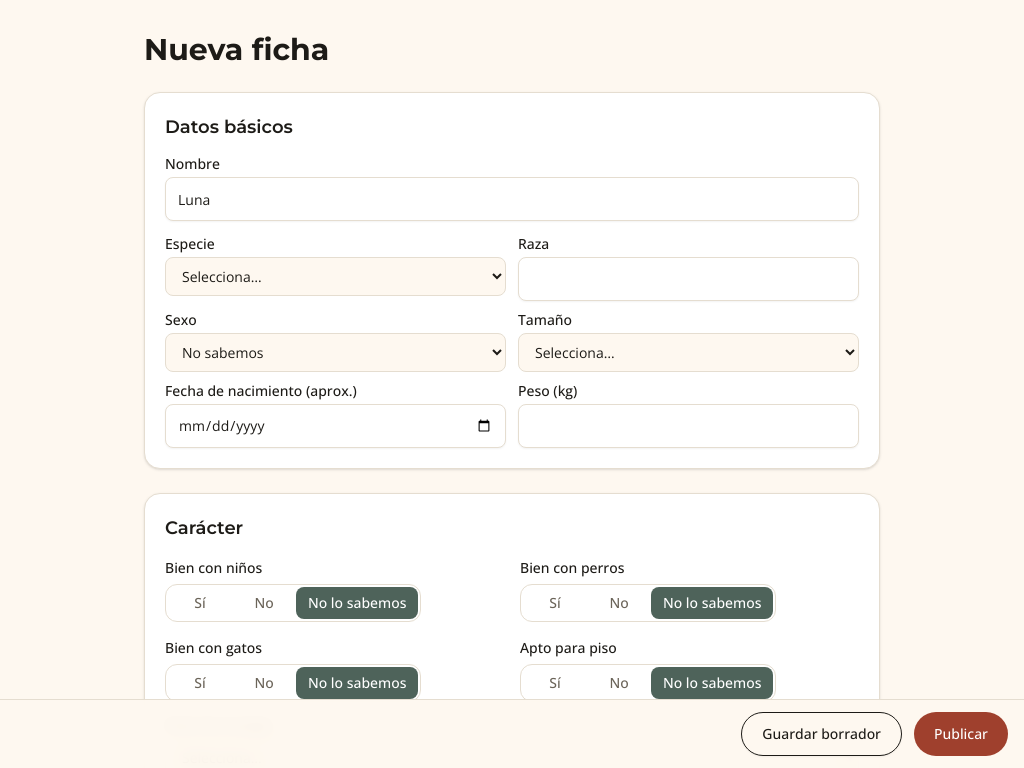
Test: AnimalForm › bloquea publicar sin los mínimos y muestra el error
Click the button "Publicar" at (961, 734), box x1=914 y1=712 x2=1008 y2=756
(page scrolled)
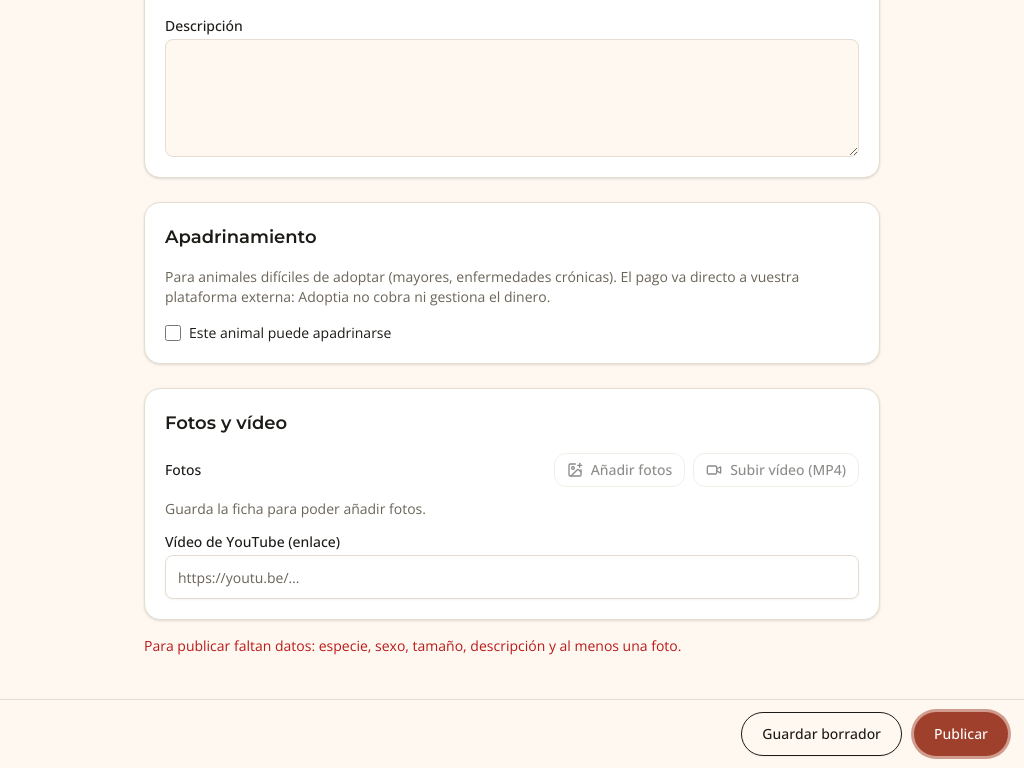
Expected: the text "Para publicar faltan datos: especie, sexo, tamaño, descripción y al menos una foto." is shown, x1=144 y1=636 x2=681 y2=655
